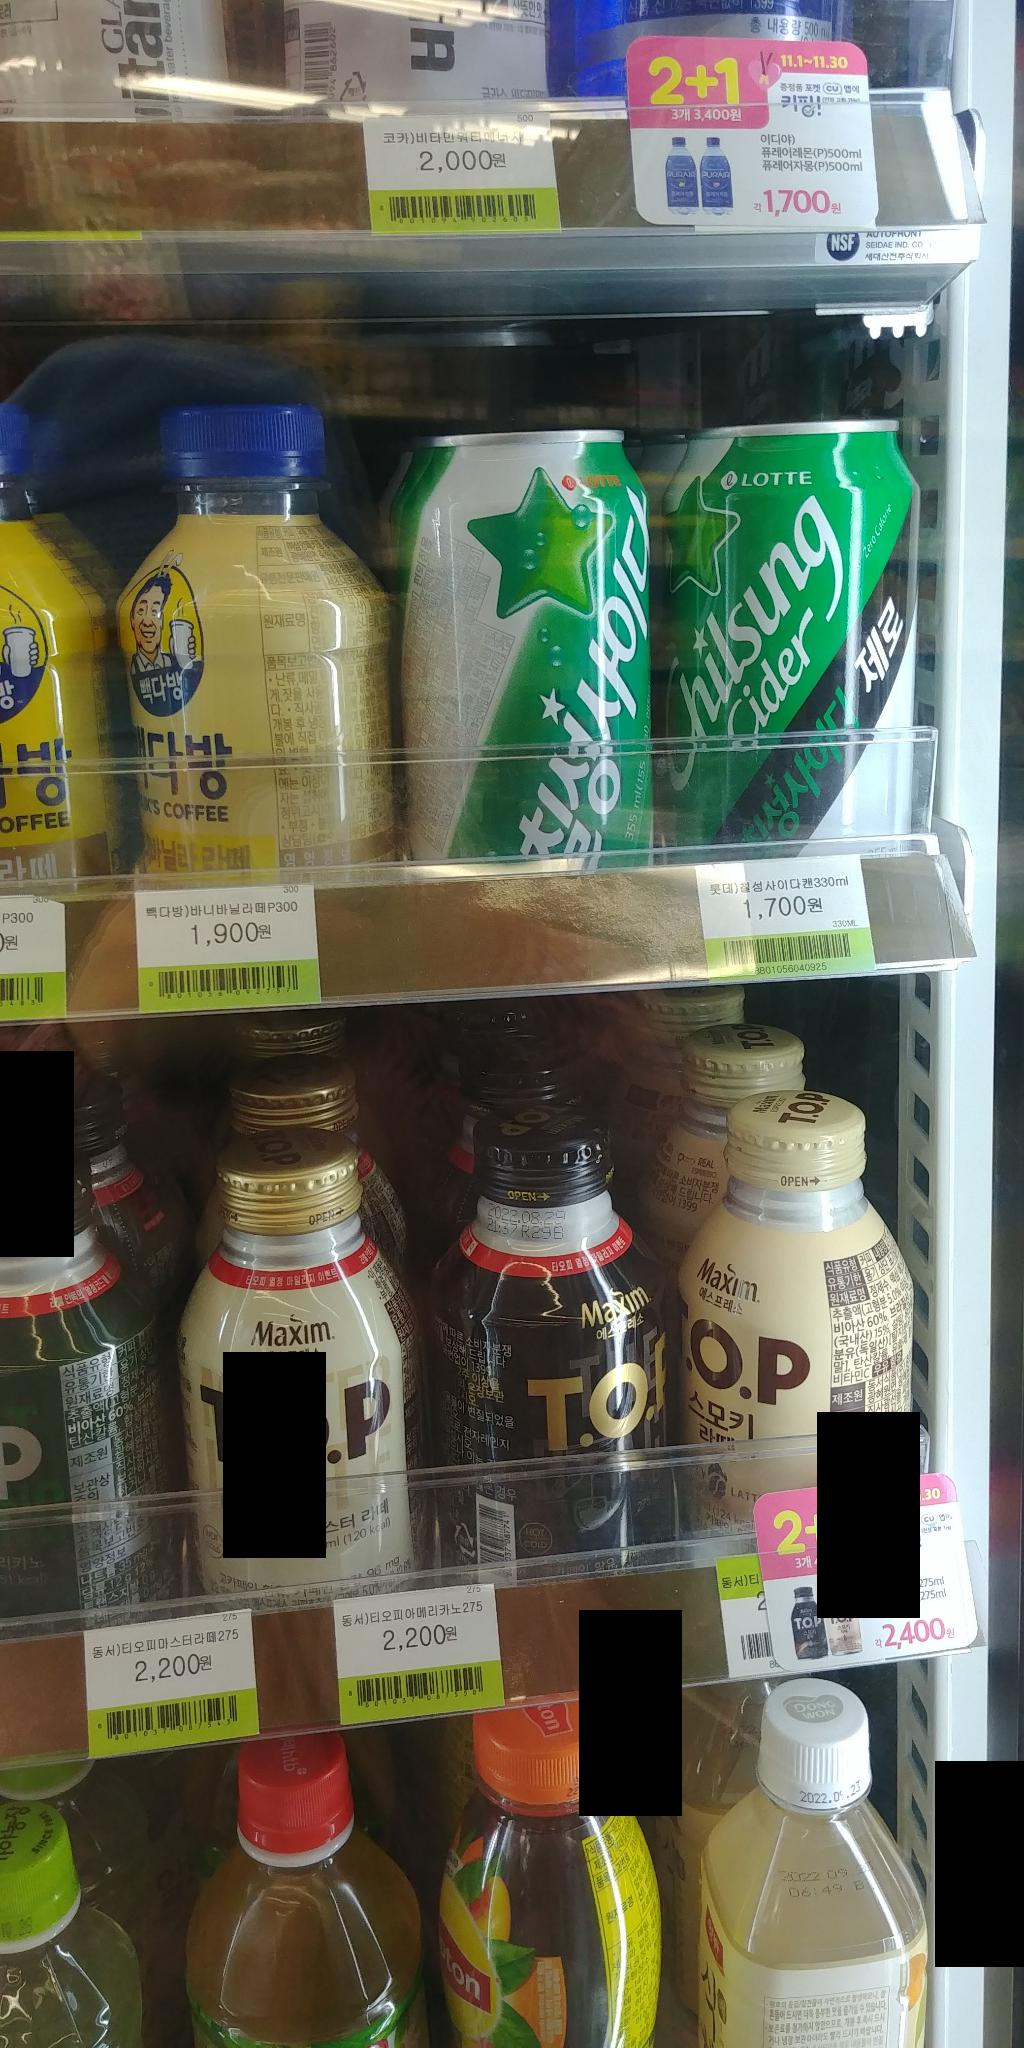TOP_black: (419, 1080, 690, 1579)
chilsungcider: (380, 404, 664, 891)
